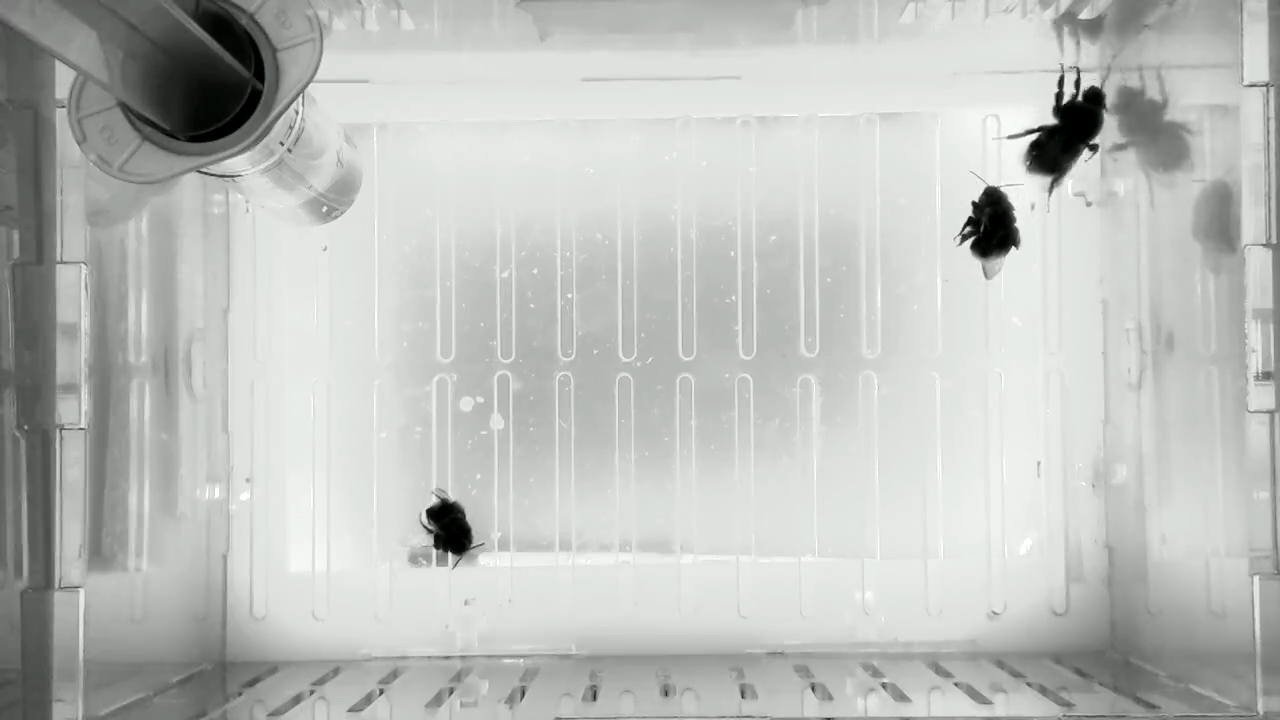bee: (987, 60, 1120, 214), (949, 167, 1030, 283), (410, 482, 489, 577)
feeder: (226, 89, 369, 229)
